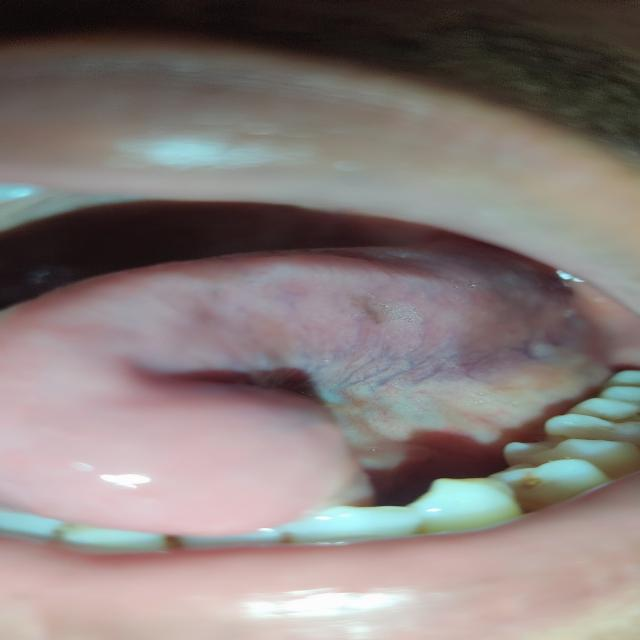No Cancer: (297, 280, 554, 383)
